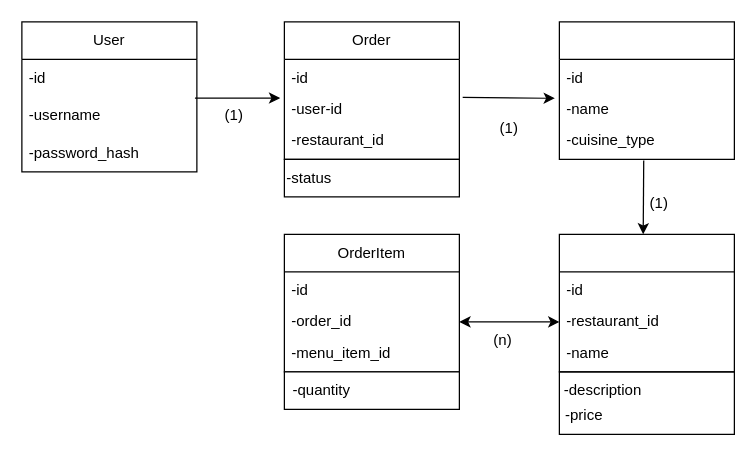
This 756x456 diagram has some shape labels left out. Here are the shapes that lost their labels. From the top down, the box of each, then its label:
(558, 21, 734, 159): Restaurant
(558, 233, 734, 372): Menu
